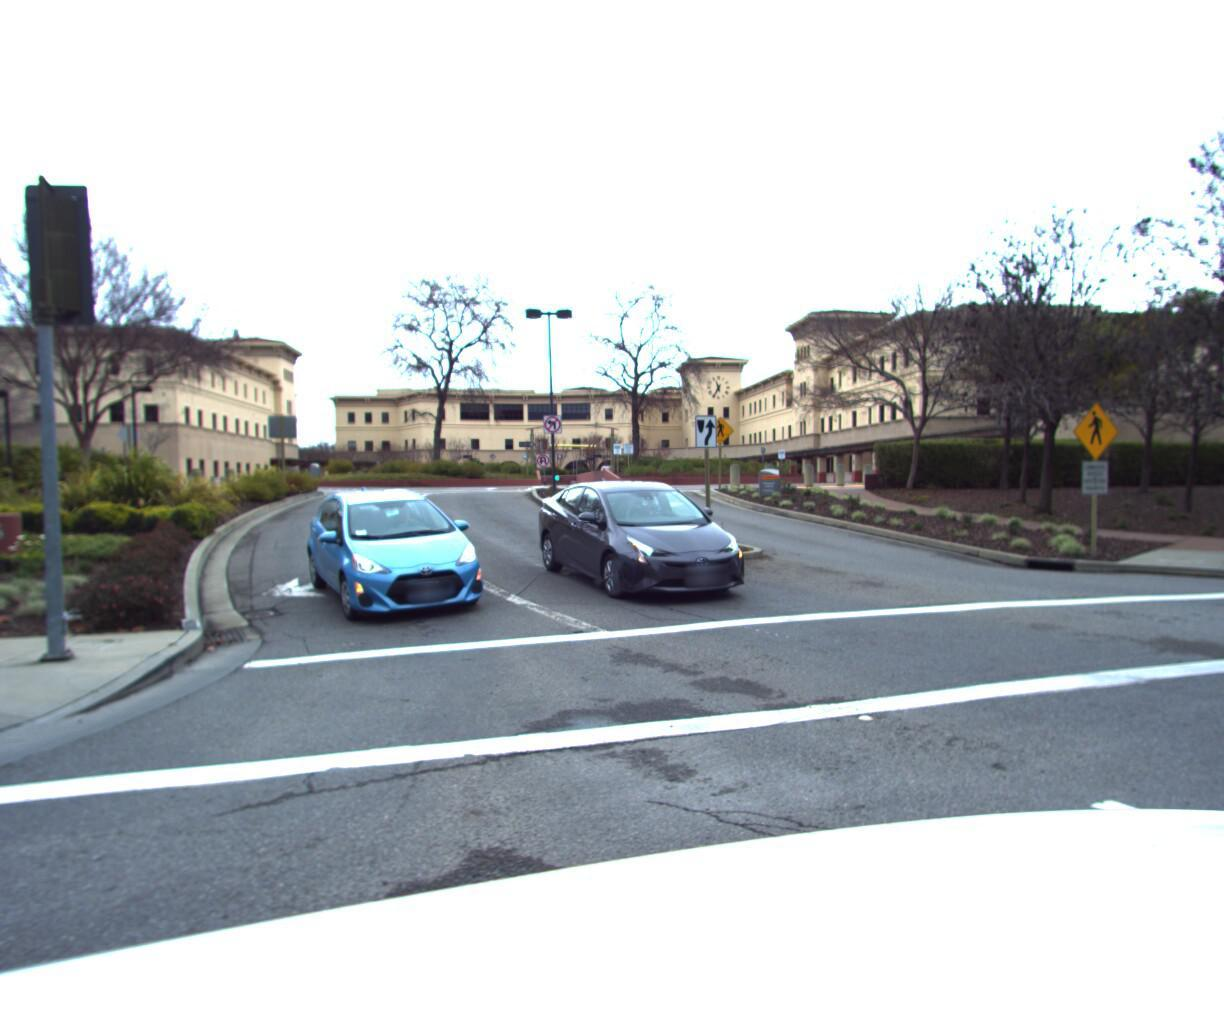car: (533, 474, 779, 601), (296, 477, 503, 623)
